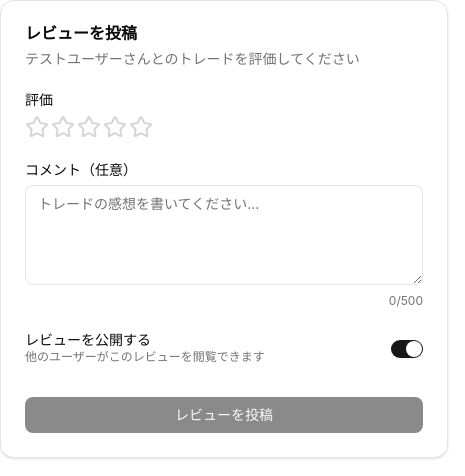
ReviewForm › 評価選択 › 評価を選択すると送信ボタンが有効になる
Click the button named "4つ星" at point(115, 127), box [103, 115, 127, 139]
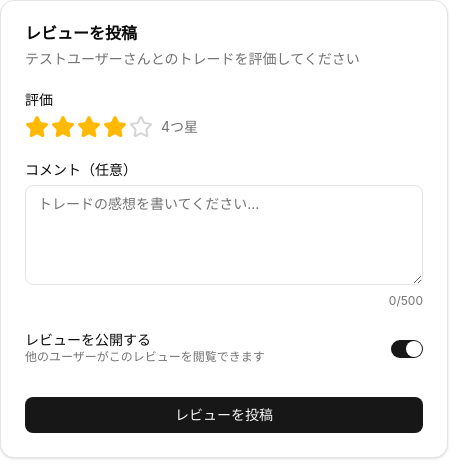
Check: the button "レビューを投稿" is enabled, box [25, 397, 423, 433]
